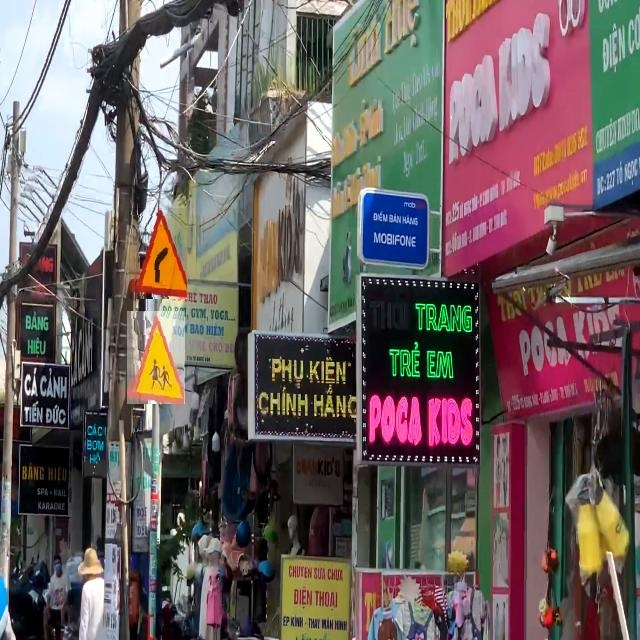bien_nguy_hiem: (128, 311, 186, 404), (129, 208, 187, 299)
